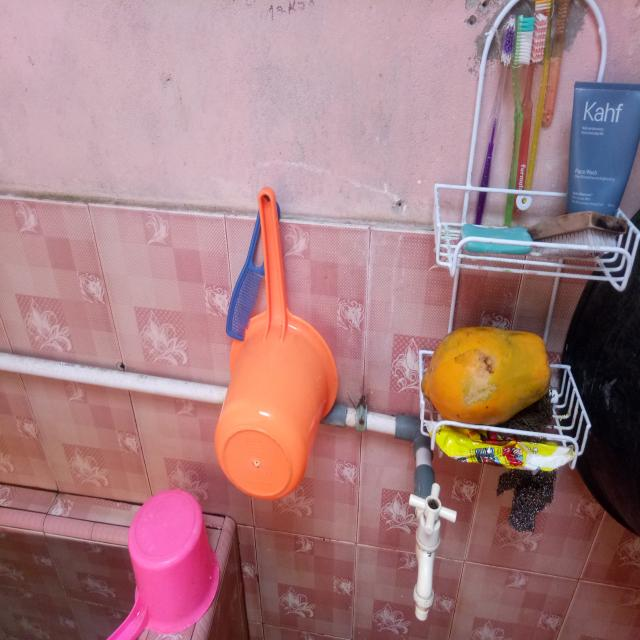Pepaya rippen: (424, 328, 556, 424)
